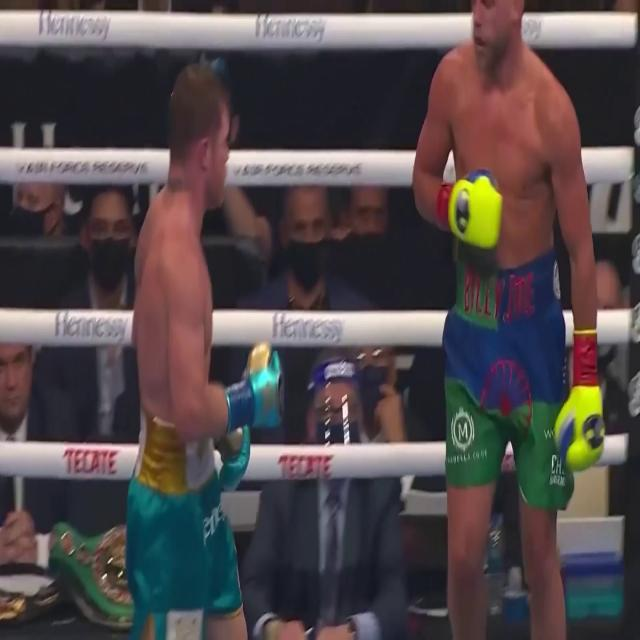boxer_1: (451, 0, 559, 270)
boxer_2: (135, 64, 229, 425)
gloves_1: (553, 330, 605, 473), (437, 170, 503, 251)
gloves_2: (218, 342, 284, 491)
